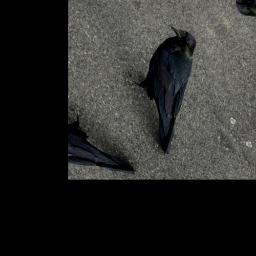Crow: (101, 18, 245, 156)
